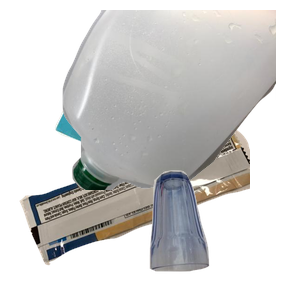glass: (147, 168, 300, 300)
paper: (52, 49, 209, 198)
plastic: (60, 10, 300, 190)
trash: (17, 123, 257, 300)
